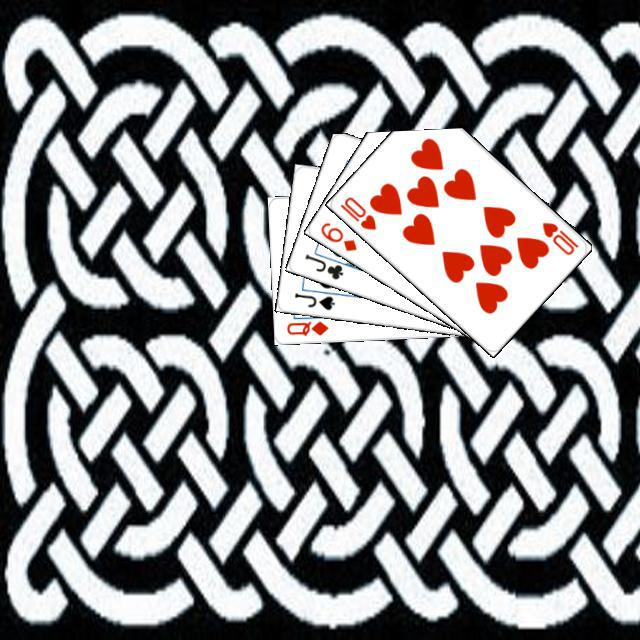10h: (335, 192, 378, 232), (537, 217, 580, 257)
6d: (316, 217, 359, 253)
Jc: (300, 249, 345, 281)
Js: (290, 288, 336, 312)
Qd: (282, 316, 330, 337)
